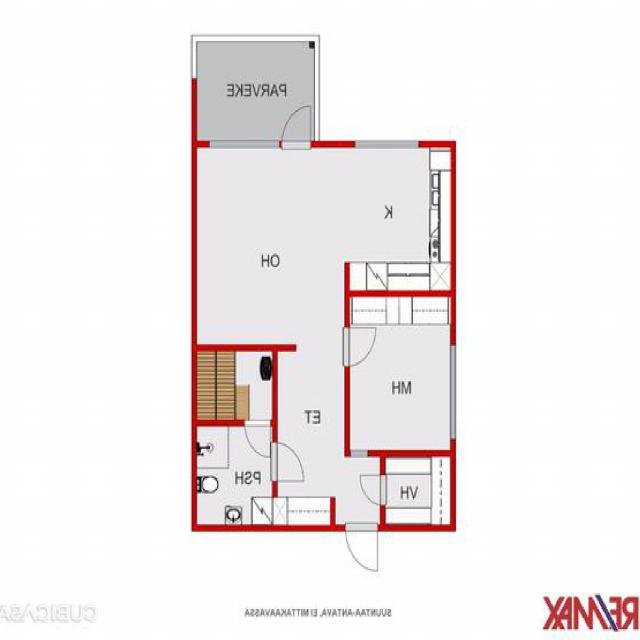door: (346, 524, 378, 573), (273, 443, 307, 481), (282, 102, 310, 147), (344, 328, 378, 365), (246, 420, 270, 459), (358, 476, 386, 504)
